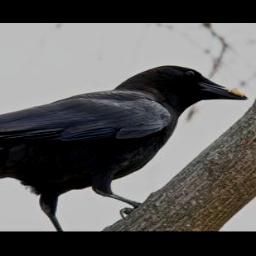Crow: (0, 64, 250, 231)
